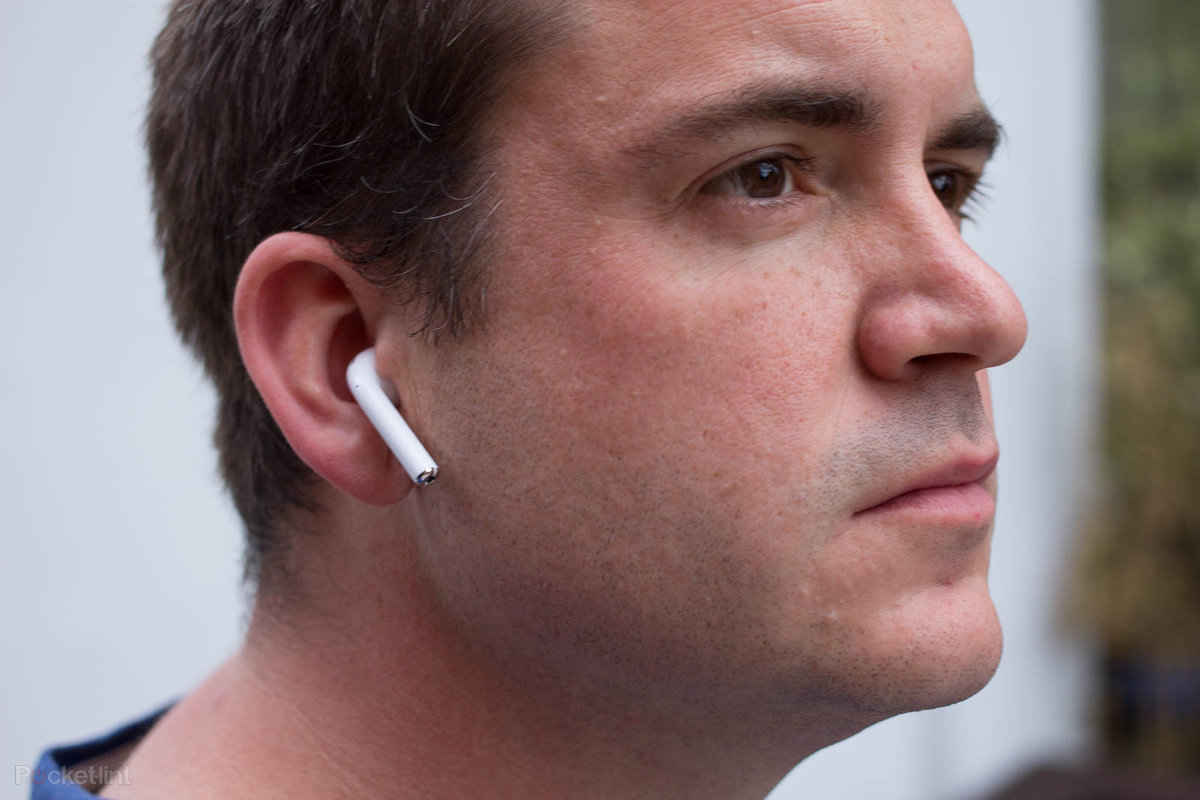earphone: (231, 232, 441, 509)
